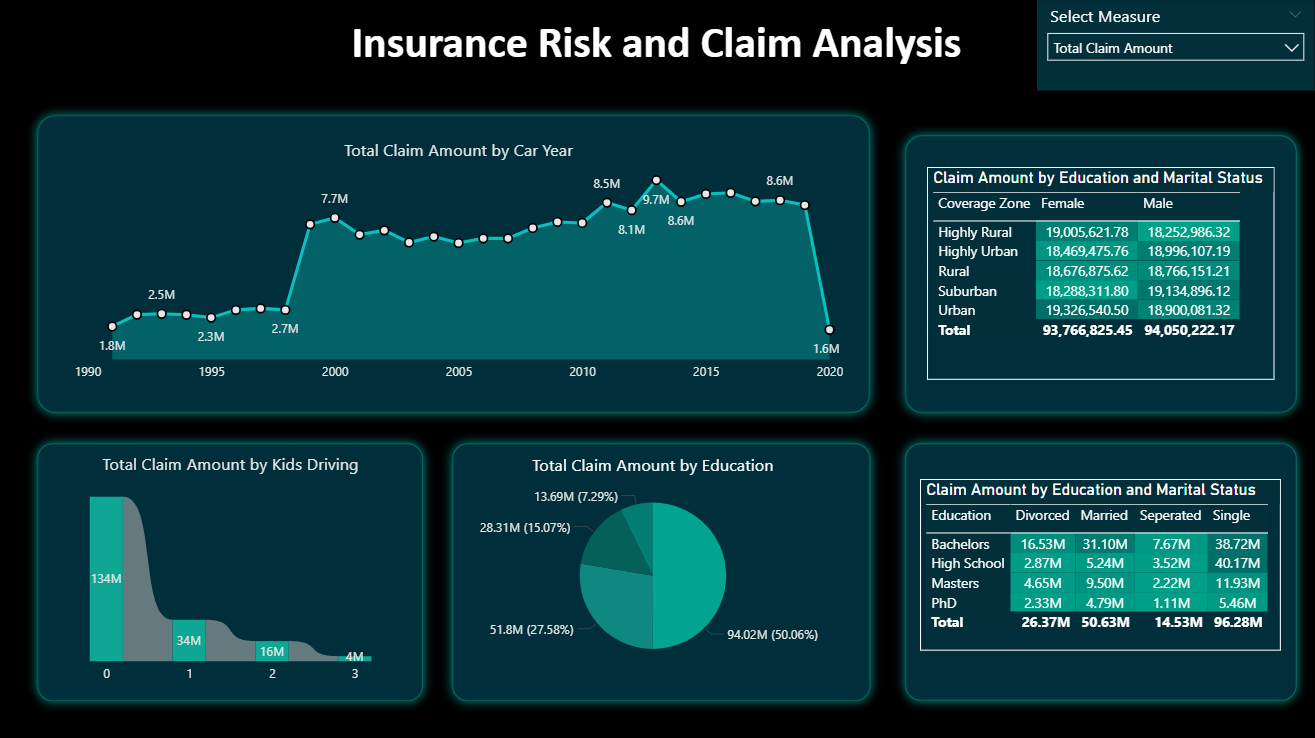

Layout of this report page (visuals, bound fields, positions):
{"tool":"powerbi","page":{"name":"Dashboard 2","canvas":[1280,720],"ordinal":1},"visuals":[{"type":"shape","box":[27.6,103.5,829.7,309.4],"z":0},{"type":"textbox","box":[336.9,10.6,605.6,64.7],"z":1000},{"type":"shape","box":[27.6,421.7,395.1,271],"z":2000},{"type":"shape","box":[430.6,421.7,426.7,271],"z":3000},{"type":"pieChart","fields":{"Y":["Car_Insurance_Data.Total Claim Amount"],"Category":["Car_Insurance_Data.Education"]},"box":[447.4,442.4,377.4,215.8],"z":4000},{"type":"shape","box":[871.5,422.1,400.7,270.4],"z":5000},{"type":"pivotTable","title":"Claim Amount by Education and Marital Status","fields":{"Rows":["Car_Insurance_Data.Education"],"Columns":["Car_Insurance_Data.Marital Status"],"Values":["Car_Insurance_Data.Total Claim Amount"]},"box":[895.8,466.9,351.1,167.3],"z":6000},{"type":"slicer","fields":{"Values":["Select Measure.Select Measure"]},"box":[1009.6,0,270.4,88.5],"z":7000},{"type":"ribbonChart","fields":{"Y":["Car_Insurance_Data.Total Claim Amount"],"Category":["Car_Insurance_Data.Kids Driving"]},"box":[67,441.4,316.3,232.5],"z":8000},{"type":"areaChart","fields":{"Y":["Car_Insurance_Data.Total Claim Amount"],"Category":["Car_Insurance_Data.Car Year"]},"box":[68,136,757.8,244.4],"z":9000},{"type":"shape","box":[871.5,122.6,400.7,289.8],"z":9002},{"type":"pivotTable","title":"Claim Amount by Education and Marital Status","fields":{"Rows":["Car_Insurance_Data.Coverage Zone"],"Columns":["Car_Insurance_Data.Gender"],"Values":["Car_Insurance_Data.Total Claim Amount"]},"box":[902.6,163.4,337.5,207.2],"z":9003}]}

Visuals, with their boxes in screenshot pixels (x1, y1, x2, y2), scaled from the page's 1280x720 canvas onto the 1315x738 screenshot:
shape: 28/106/881/423
textbox: 346/11/968/77
shape: 28/432/434/710
shape: 442/432/881/710
pieChart - Car_Insurance_Data.Total Claim Amount x Car_Insurance_Data.Education: 460/453/847/675
shape: 895/433/1307/710
"Claim Amount by Education and Marital Status" pivotTable: 920/479/1281/650
slicer - Select Measure.Select Measure: 1037/0/1314/91
ribbonChart - Car_Insurance_Data.Total Claim Amount x Car_Insurance_Data.Kids Driving: 69/452/394/691
areaChart - Car_Insurance_Data.Total Claim Amount x Car_Insurance_Data.Car Year: 70/139/848/390
shape: 895/126/1307/423
"Claim Amount by Education and Marital Status" pivotTable: 927/167/1274/380
